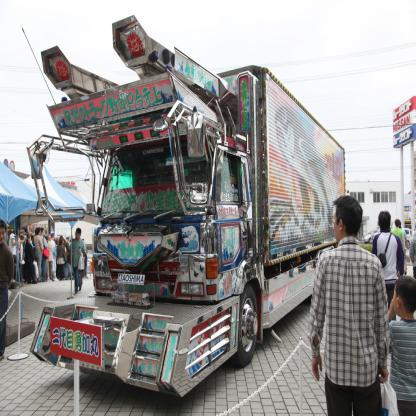Car: (364, 224, 380, 244)
Truck: (26, 40, 359, 396)
